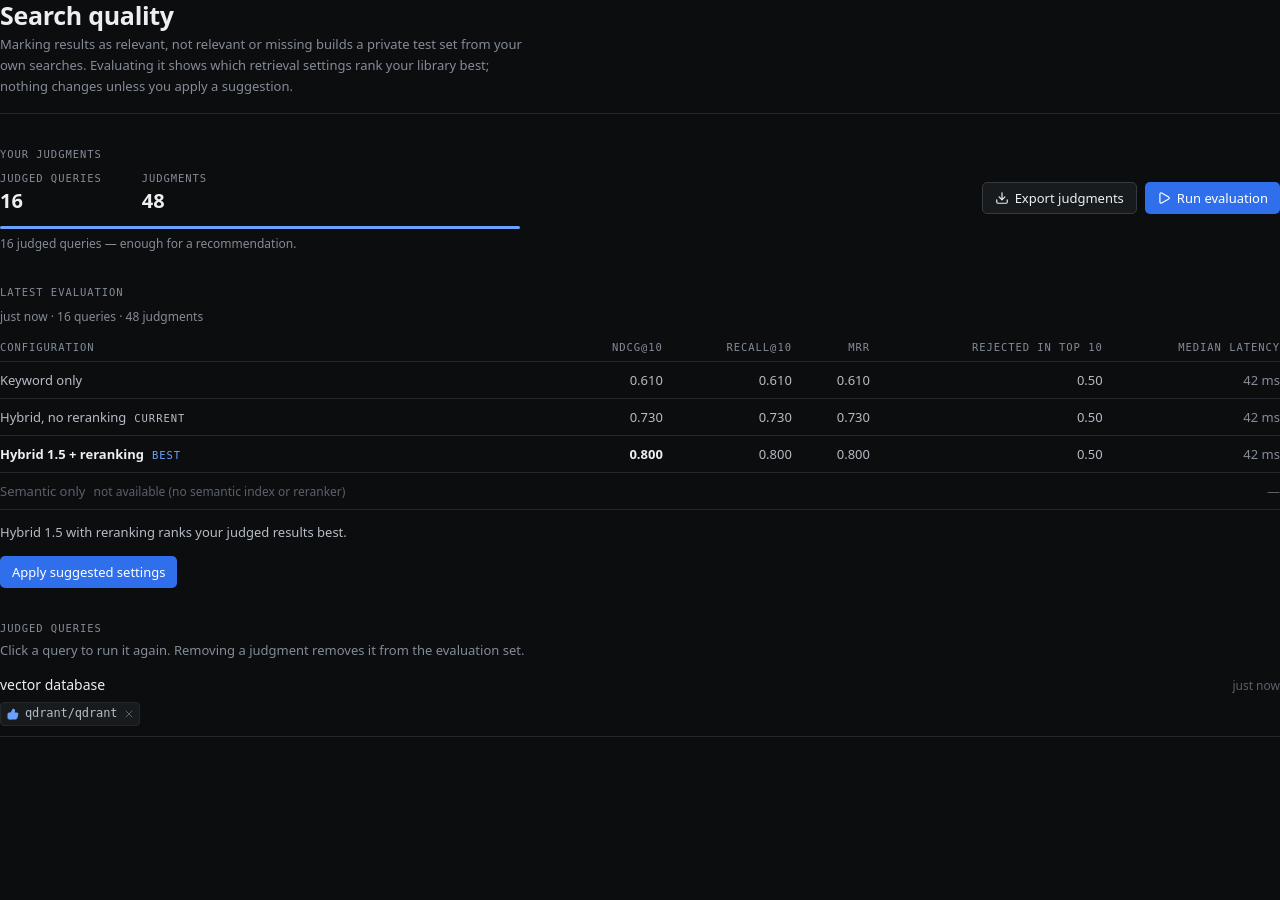
Scenario: QualitySettings › shows counts, the table and applies a suggestion only after confirmation
Later steps or results of the test are not shown.
Check: the text with test id "eval-queries" reads "16", box [0, 187, 23, 214]
Check: the text with test id "eval-judgments" reads "48", box [142, 187, 165, 214]
What coordinates should you click on to do the following:
click the button "Apply suggested settings"
I would click on:
 (89, 572)
Its box is [0, 556, 177, 588].
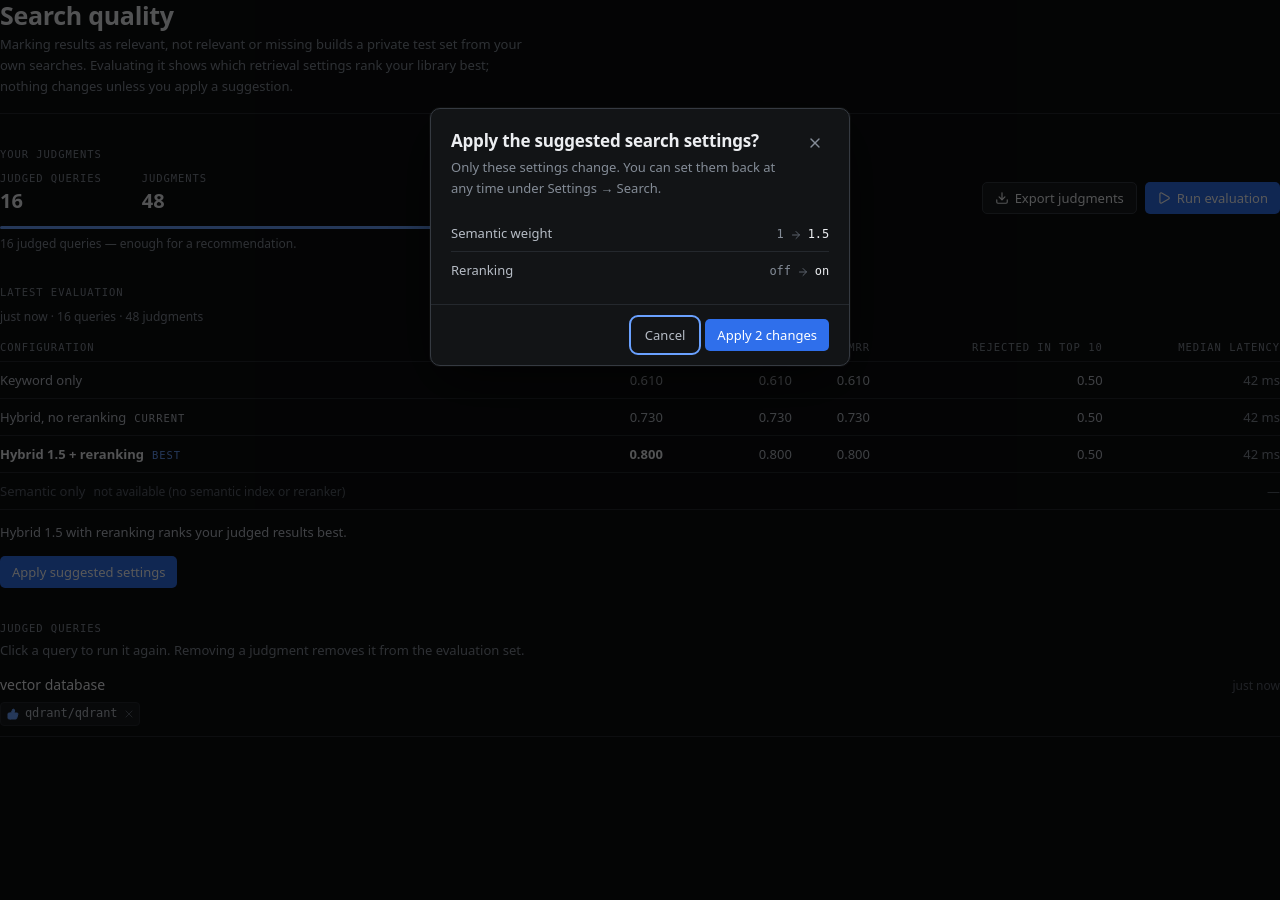
Check: the text "Semantic weight" is shown, box [451, 224, 552, 242]
